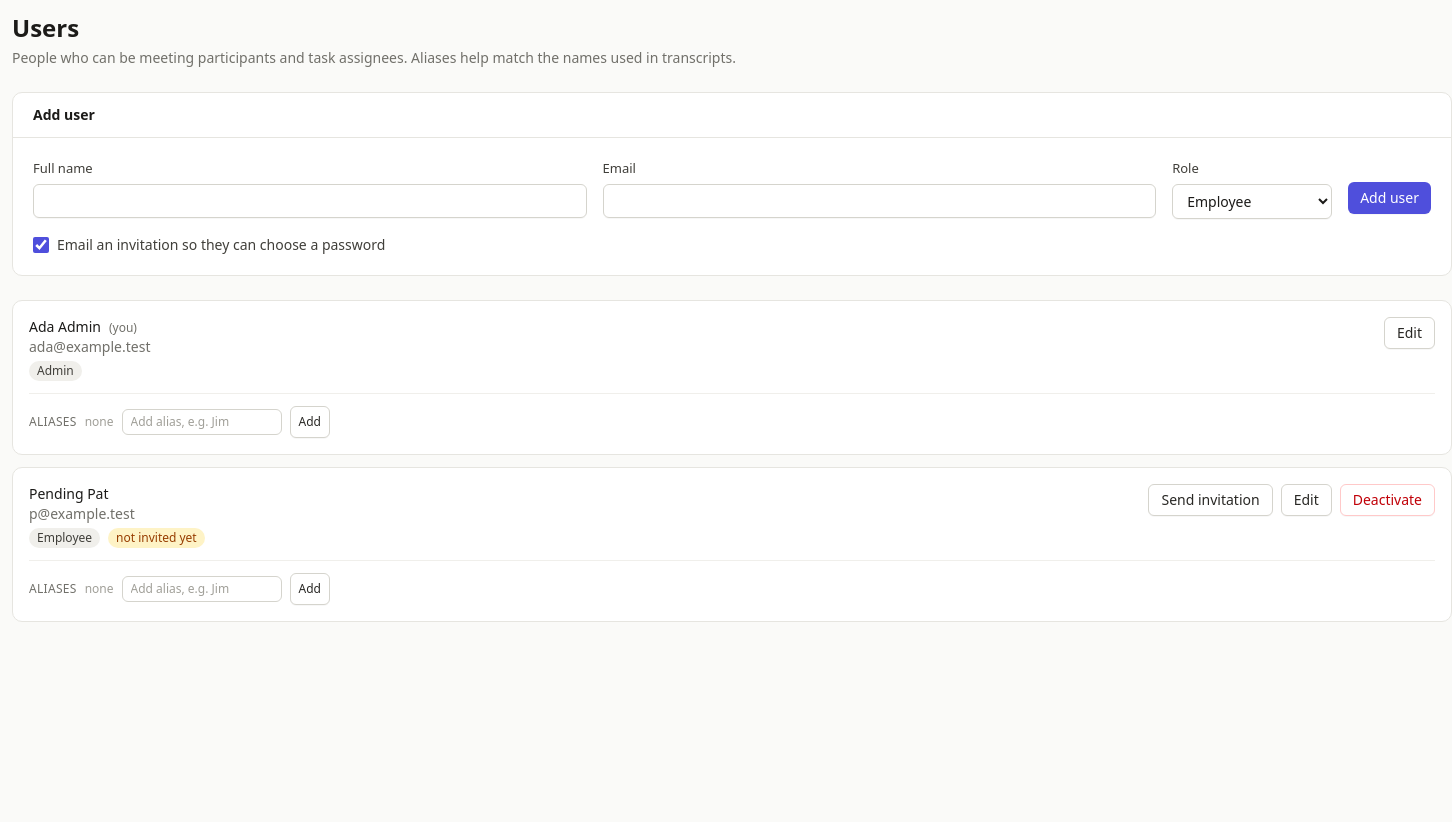
Test: Users page — invitations › shows server errors for invitation actions
The width and height of the screenshot is (1452, 822).
Expected: the text "Ada Admin" is shown, [29,317,101,336]
Click the button "Send invitation".
click(1211, 500)  # box [1148,484,1273,516]
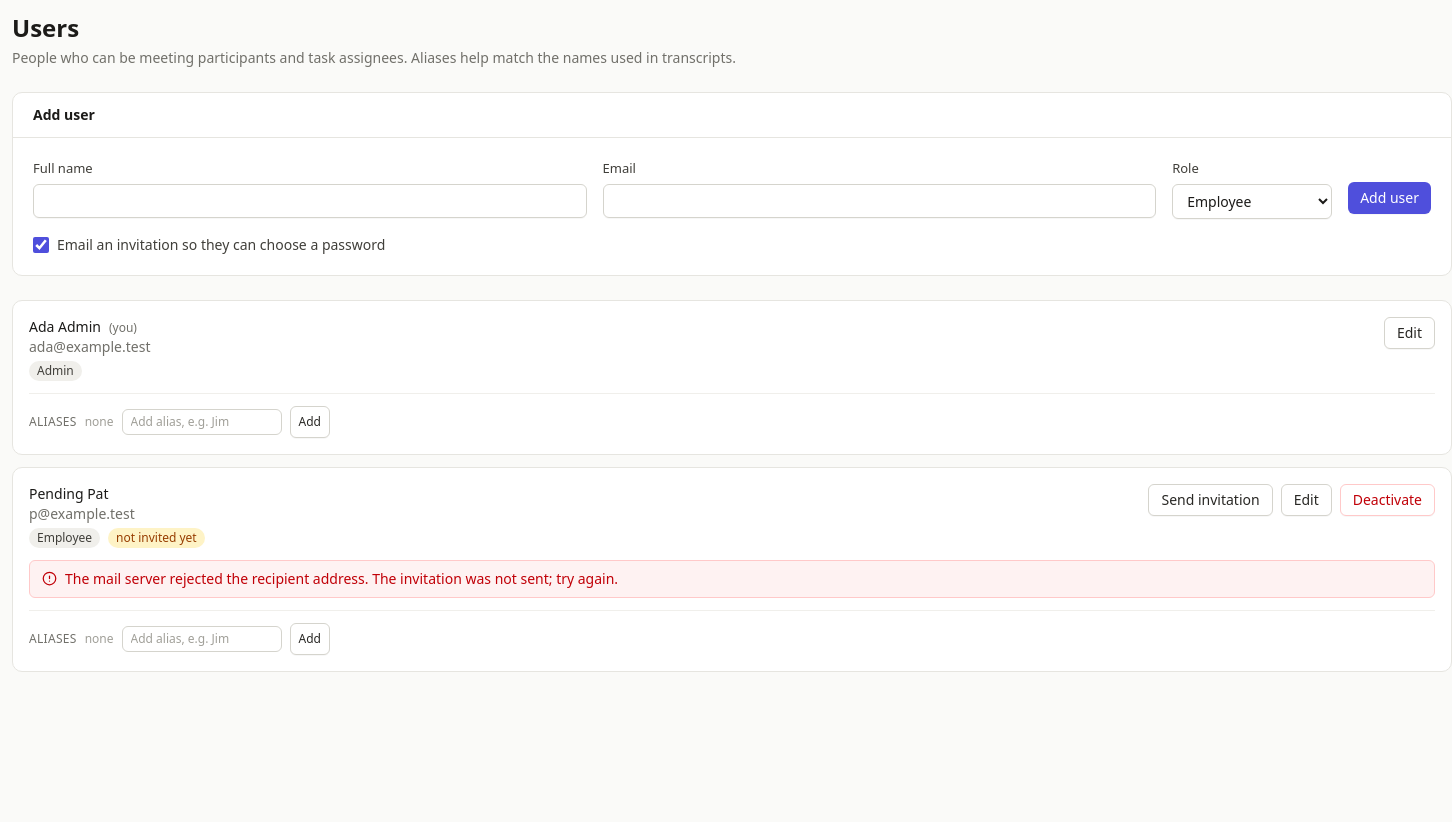
Expected: the message shows "mail server rejected", [65,569,618,588]
